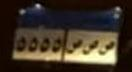5: (15, 34, 27, 53), (39, 36, 50, 54), (28, 36, 39, 54), (52, 36, 62, 55)
saad: (66, 36, 82, 57), (99, 38, 115, 58), (82, 40, 98, 58)
